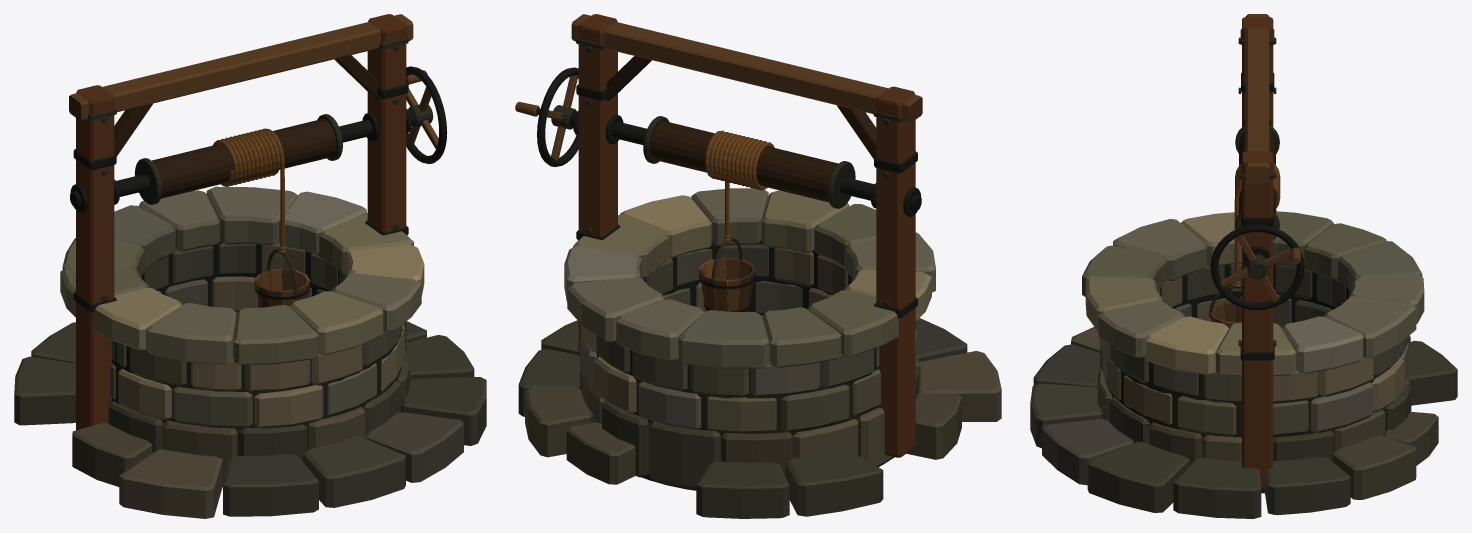
File: SM_VillageCommonWell.fbx
The picture shows the model from 3 angles, left to right: view 1: azimuth 30°, elevation 25°; view 2: azimuth 150°, elevation 25°; view 3: azimuth 270°, elevation 25°; orthographic projection. The views are drawn at different scales.
Visible parts, largest first — view 1: SM_VillageCommonWell; view 2: SM_VillageCommonWell; view 3: SM_VillageCommonWell.
Part boxes in pixels (x1,y1,x2,y2): SM_VillageCommonWell: (14,14,486,518); SM_VillageCommonWell: (515,14,1001,518); SM_VillageCommonWell: (1030,14,1457,518).
Size of what is drawn, in the model's own units: 269 by 272 by 239.
